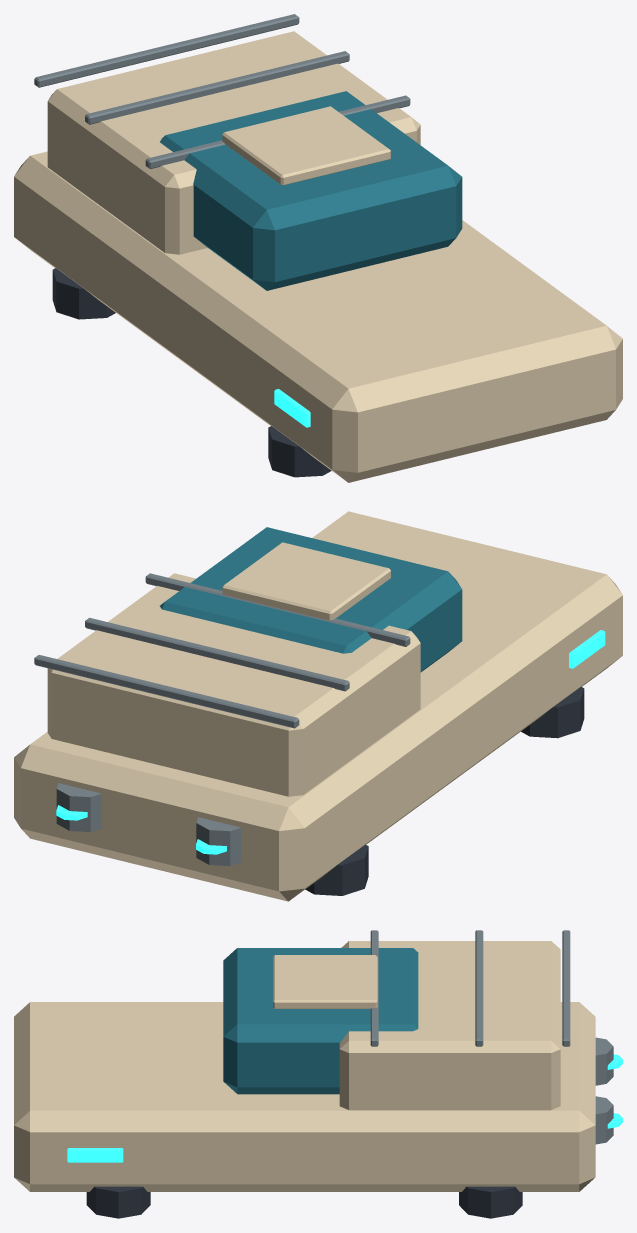
Rendered from vehicles_006_seed100.glb.
The picture shows the model from 3 angles, top to bottom: view 1: azimuth 30°, elevation 25°; view 2: azimuth 150°, elevation 25°; view 3: azimuth 270°, elevation 25°; orthographic projection. The views are drawn at different scales.
Visible parts, largest first — view 1: vehicles_006_seed100; view 2: vehicles_006_seed100; view 3: vehicles_006_seed100.
Boxes of the visible parts, x1,y1,x2,y2 form: vehicles_006_seed100: (14, 14, 622, 482); vehicles_006_seed100: (14, 511, 622, 901); vehicles_006_seed100: (14, 930, 622, 1218).
Size of the model in its own units: 2.31 by 1.49 by 4.57.
